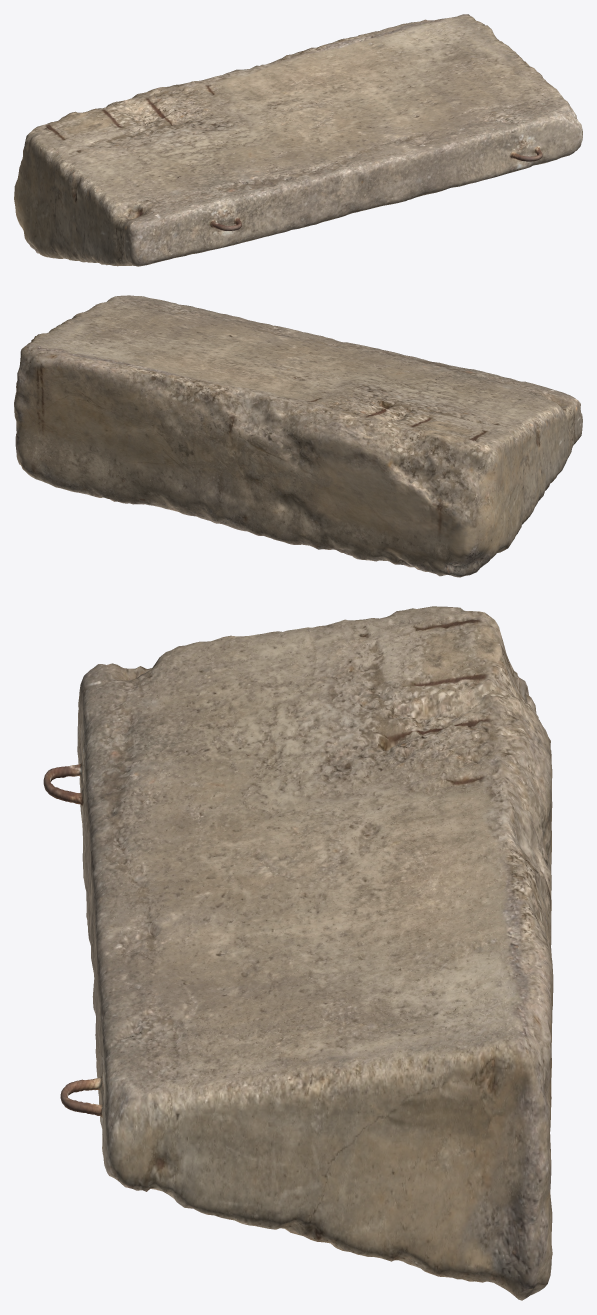
File: concrete_barrier.obj
3 views of the same model, one above another, from view 1: azimuth 30°, elevation 25°; view 2: azimuth 150°, elevation 25°; view 3: azimuth 270°, elevation 25° (orthographic). The views are drawn at different scales.
Visible parts, largest first — view 1: concrete_road_barrier_02; view 2: concrete_road_barrier_02; view 3: concrete_road_barrier_02.
Boxes of the visible parts, left/top/right/bottom form: concrete_road_barrier_02: left=14, top=14, right=582, bottom=266; concrete_road_barrier_02: left=14, top=295, right=582, bottom=577; concrete_road_barrier_02: left=43, top=606, right=553, bottom=1300.
Size of the model in its own units: 3.2 by 0.9 by 1.5.
Materials: 1 (1 with a texture image).
